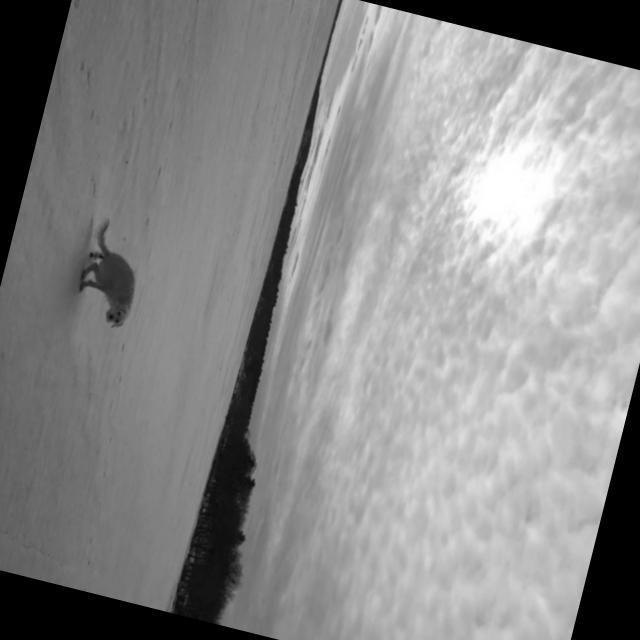squatting: (62, 212, 158, 336)
